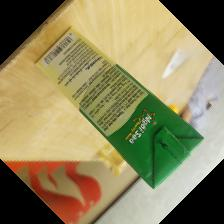NSPN_Hop: (33, 25, 205, 191)
